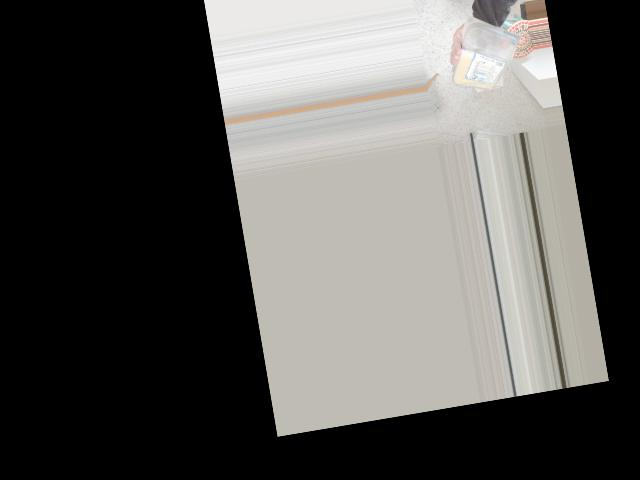cheese: (452, 19, 528, 99)
